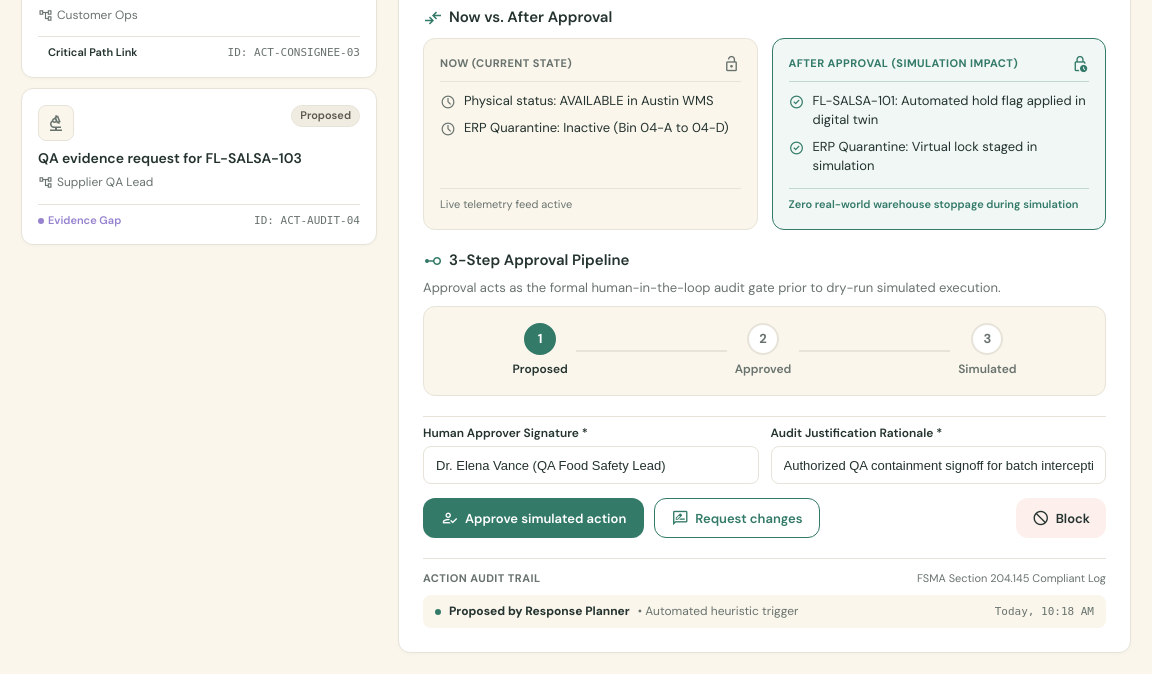
Test: ActionPlansWorkspace Component › successfully executes approval transition with human signature and rationale
(page scrolled)
Click the button "Approve simulated action": [534, 518] box [423,498,644,538]
(page scrolled)
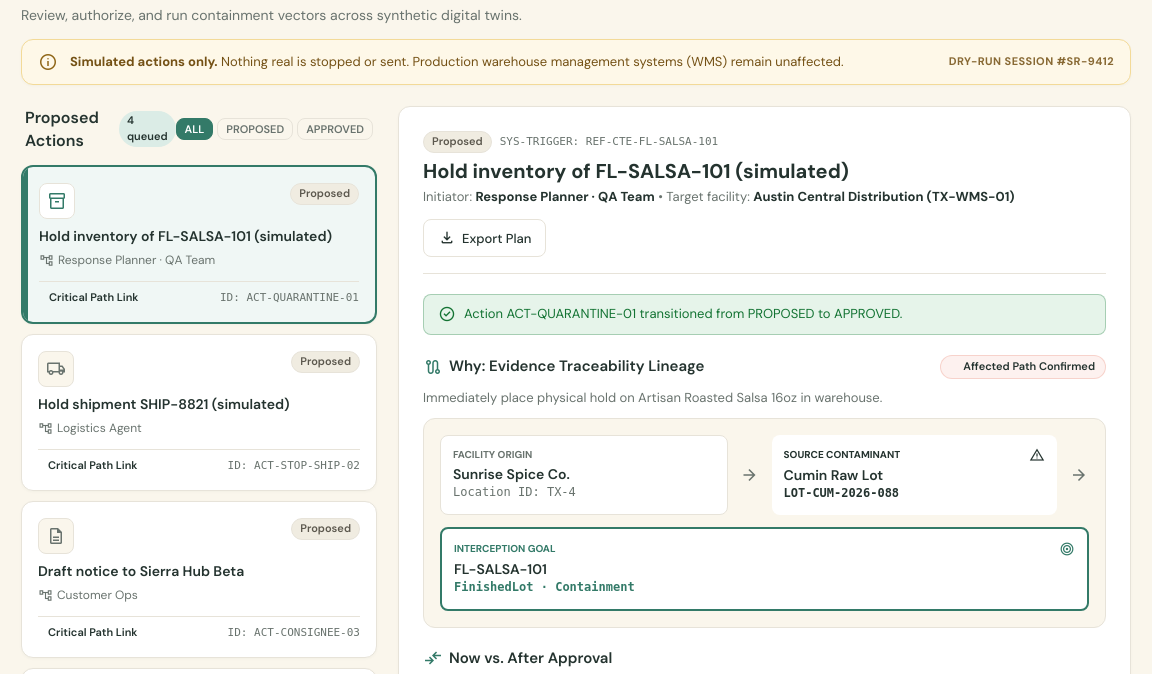
Result: the text "transitioned from PROPOSED to APPROVED" is shown at [464,305,902,322]
